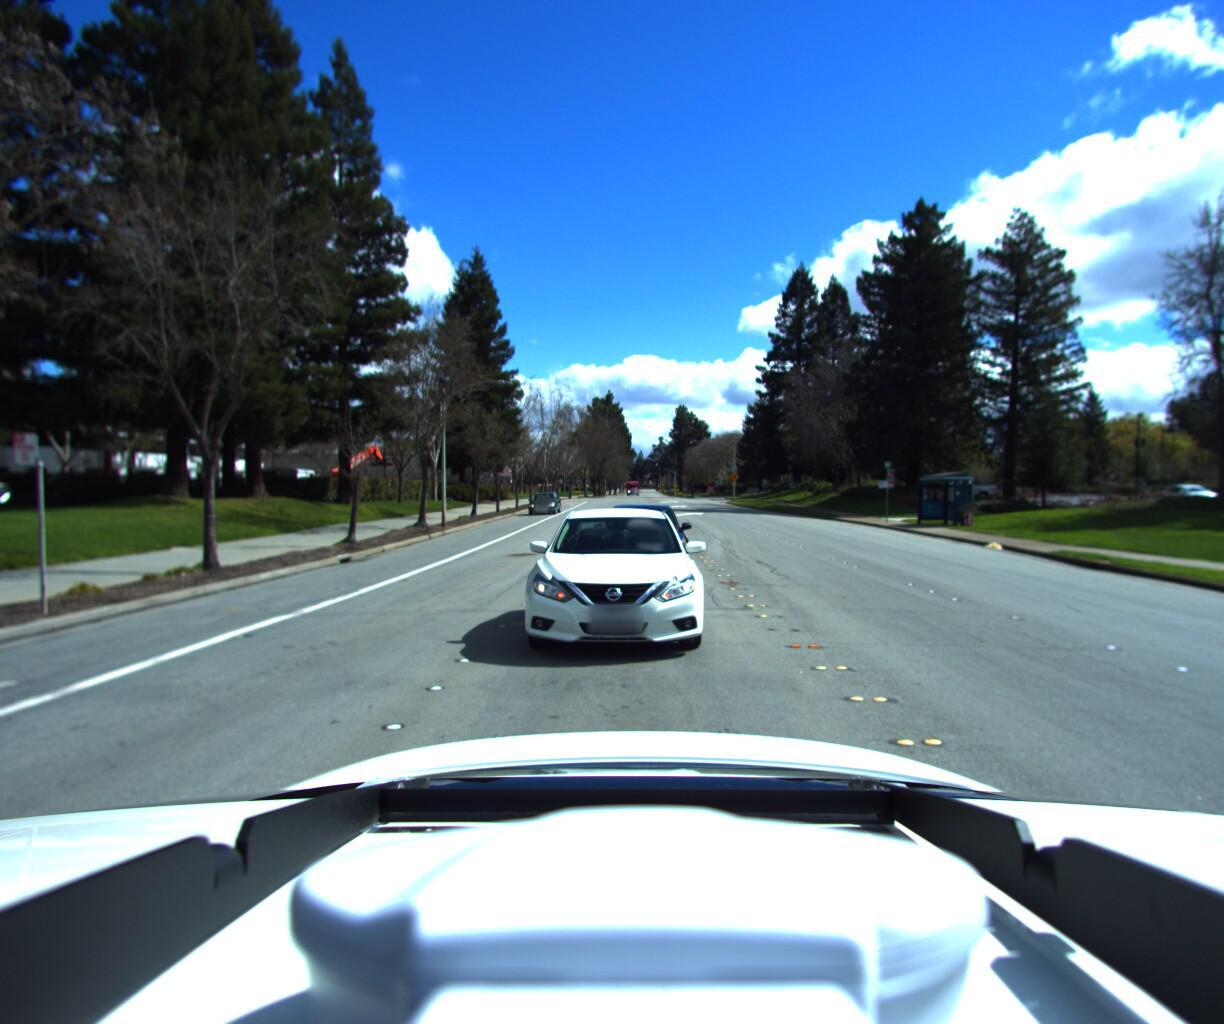car: (505, 507, 708, 678), (585, 501, 690, 586), (526, 499, 563, 523)
